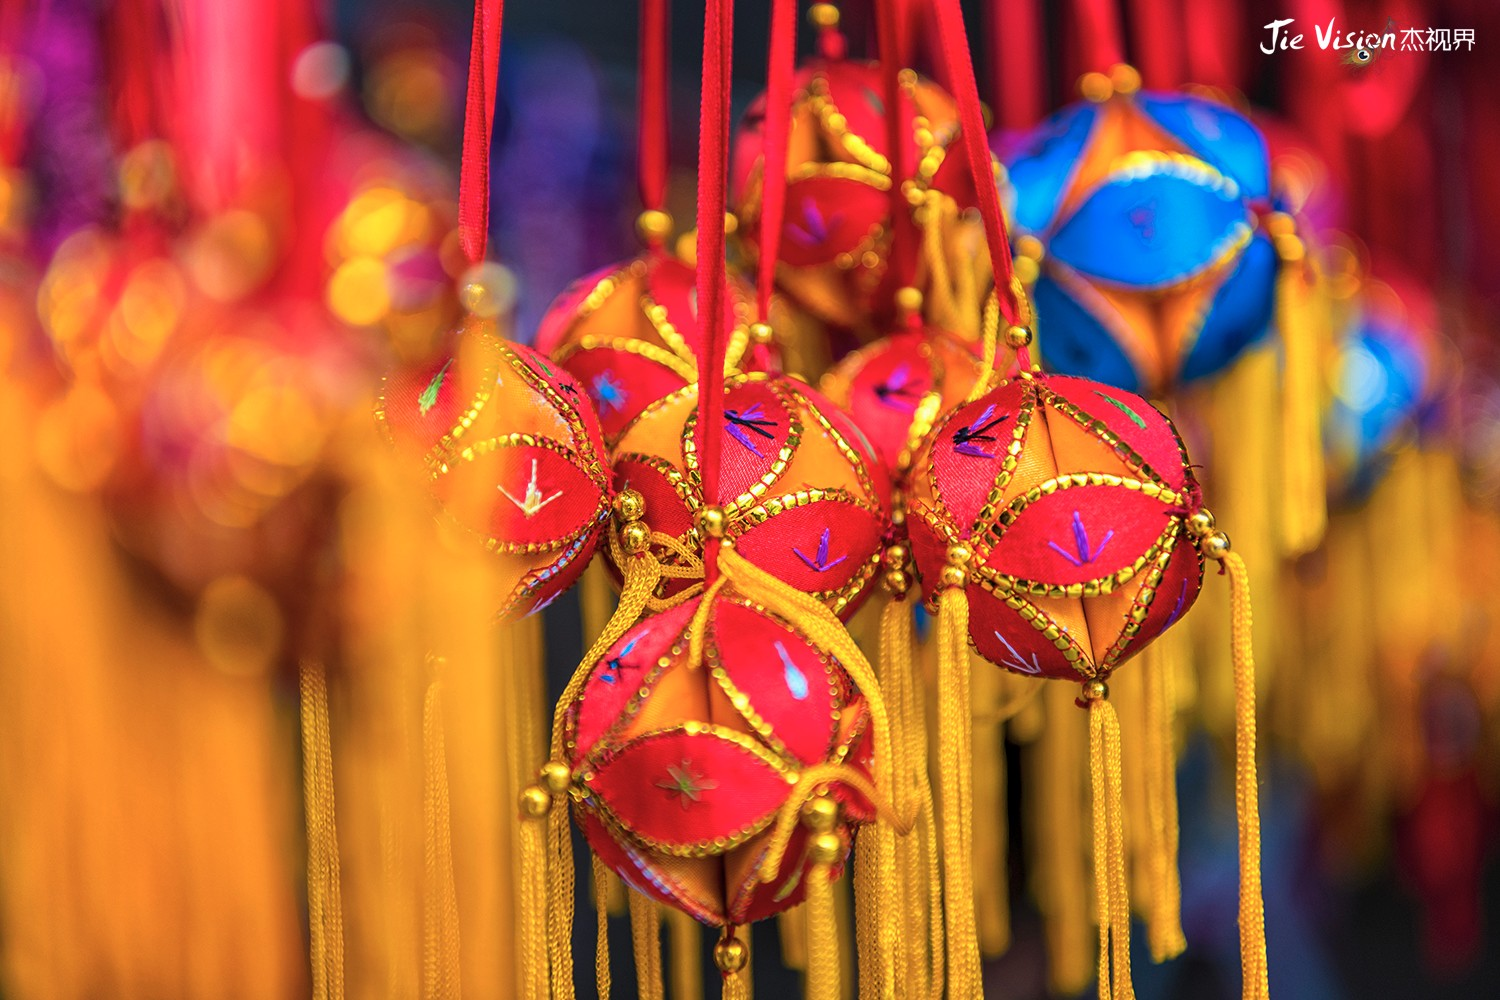xiuqiu: (570, 584, 878, 919), (905, 372, 1217, 686)
